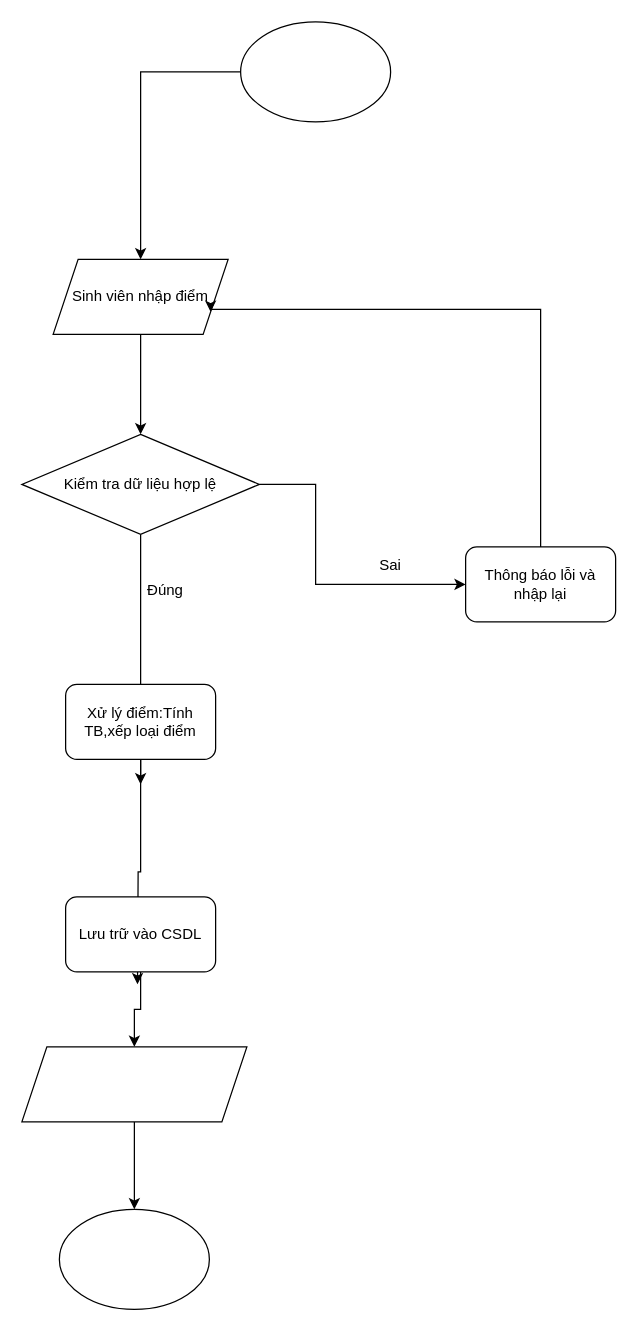
Some shapes in this 638 by 1331 pixel diagram are drawn without their labels. Each missing label, with the centre of its shape:
Bắt đầu: (x=315, y=71)
Xuất kết quả cho sinh viên: (x=134, y=1084)
